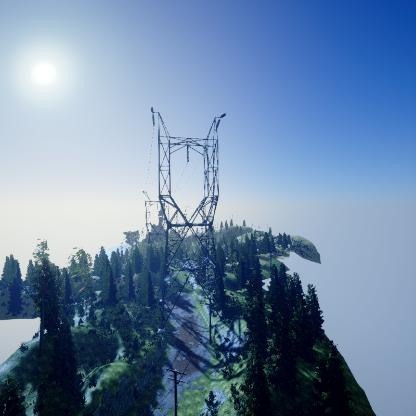tower: (146, 103, 228, 342)
